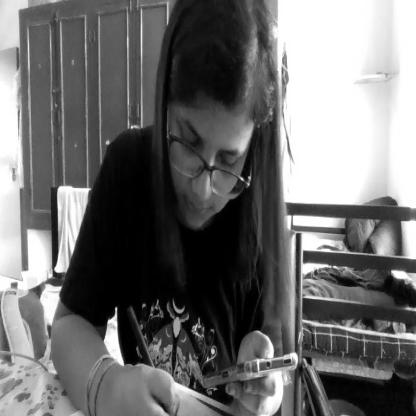Normal: (161, 0, 276, 242)
